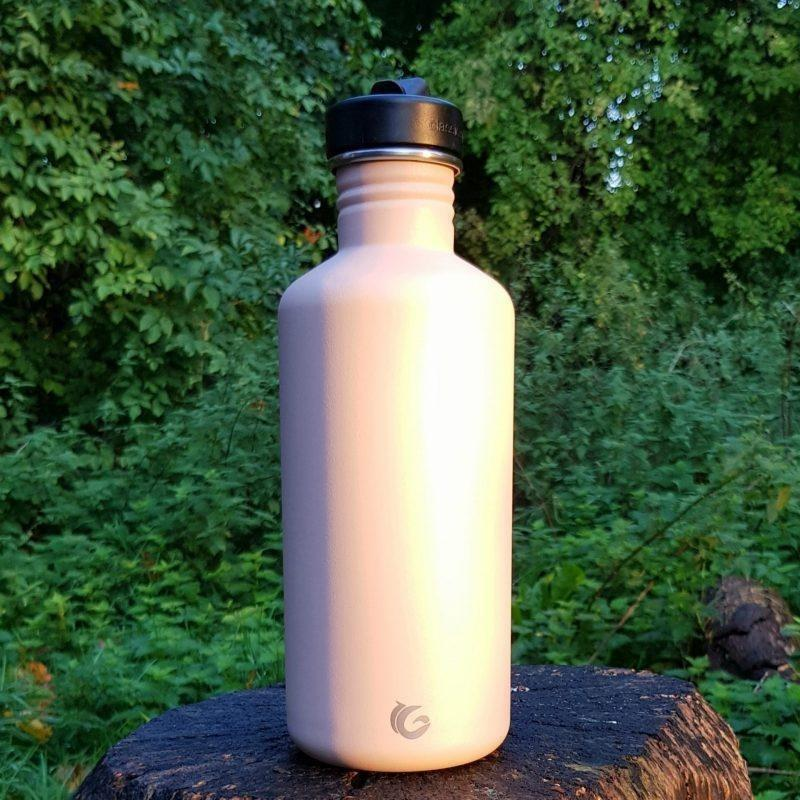gym bottle: (271, 79, 519, 770)
